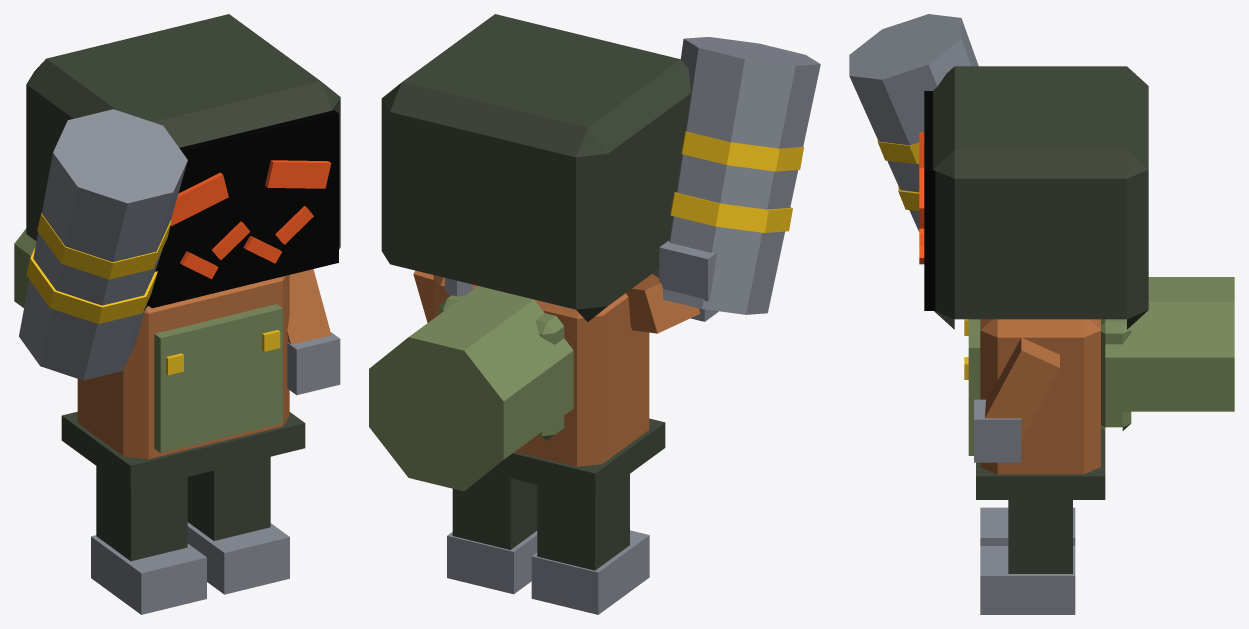
The model's file is mortar_r7.glb.
3 views of the same model, side by side, from view 1: azimuth 30°, elevation 25°; view 2: azimuth 150°, elevation 25°; view 3: azimuth 270°, elevation 25° (orthographic). The views are drawn at different scales.
Visible parts, largest first — view 1: mortar_r7_mesh; view 2: mortar_r7_mesh; view 3: mortar_r7_mesh.
Boxes of the visible parts, x1,y1,x2,y2 form: mortar_r7_mesh: [14, 14, 340, 614]; mortar_r7_mesh: [369, 14, 820, 614]; mortar_r7_mesh: [849, 14, 1234, 614].
Size of the model in its own units: 1.06 by 1.7 by 1.21.
1 material, 1 textured.
